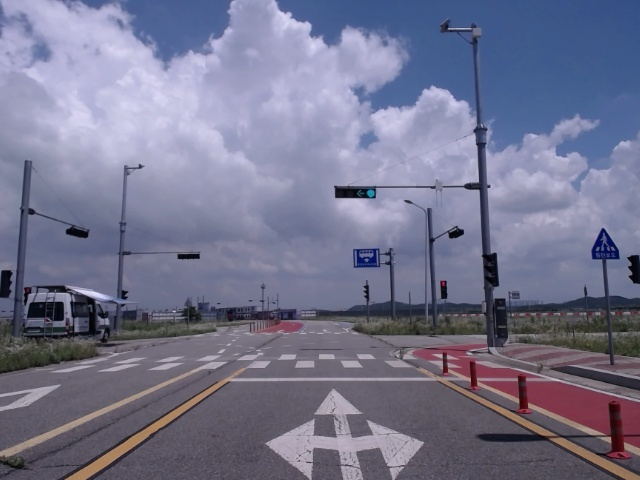all_green_4: (337, 186, 373, 198)
